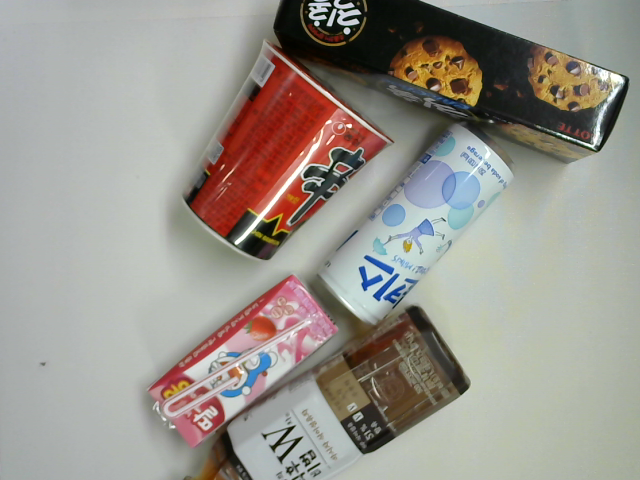Chicchok_Original_2400: (271, 1, 632, 162)
Milkies_250ml: (317, 123, 521, 329)
Post-meal_recipe_W_tea_500ml: (176, 305, 474, 480)
Sinramen_small: (182, 40, 397, 264)
Strawberry_E_Mong: (146, 271, 341, 450)
